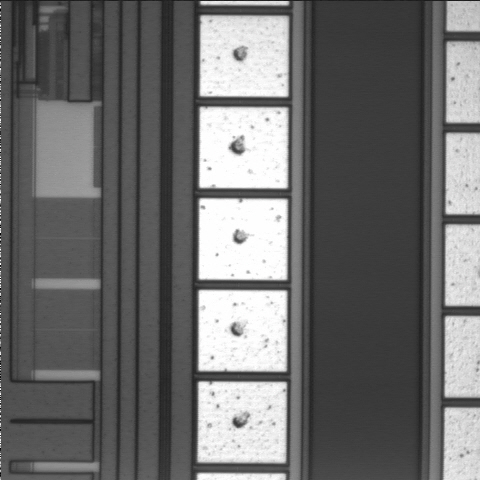pad: (199, 107, 288, 189), (199, 198, 288, 280), (198, 290, 287, 372), (198, 382, 287, 463), (200, 16, 288, 97)
